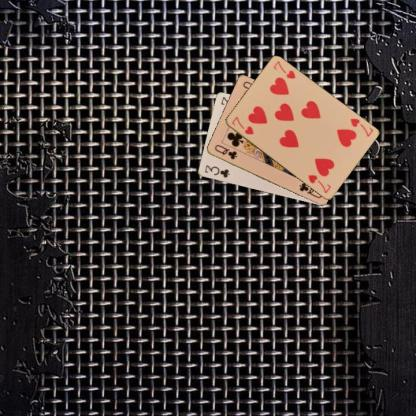3c: (202, 162, 231, 179)
7h: (348, 116, 375, 138), (229, 114, 255, 136)
Qc: (212, 142, 238, 161)
